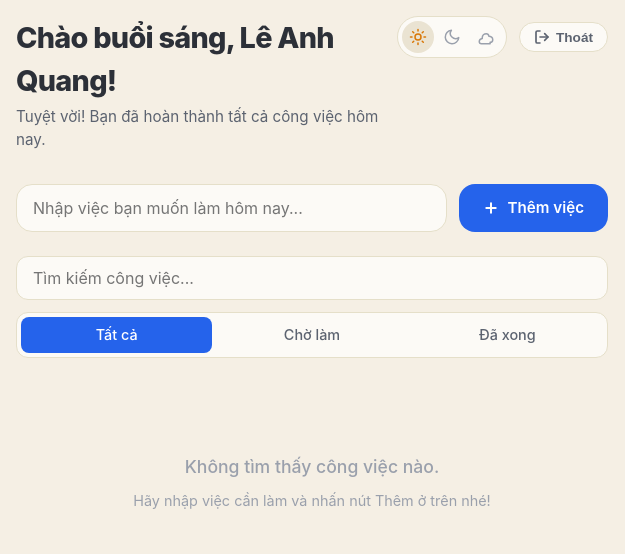
Test case: Kiểm thử Luồng Đăng nhập, Đăng ký & Đăng xuất › Cho phép người dùng Đăng xuất (Thoát) khỏi Dashboard
The width and height of the screenshot is (625, 554).
Click the button named "Đăng xuất". click: (564, 37)
box: [519, 22, 608, 52]
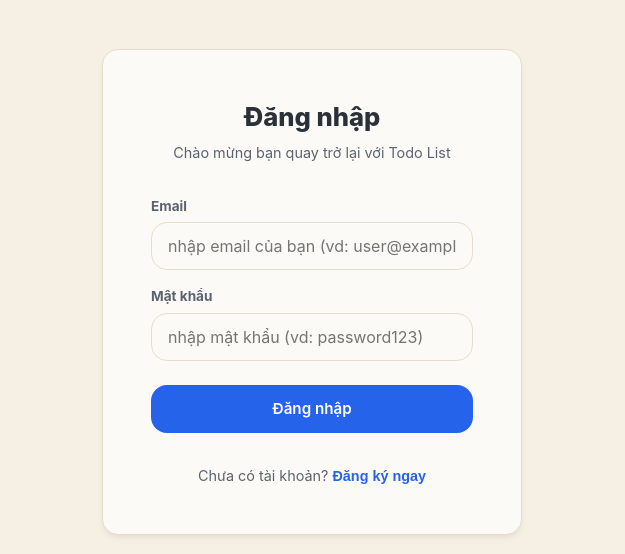
Expected: the heading "Đăng nhập" is shown, [244, 101, 380, 132]
